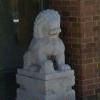Statue: (21, 2, 73, 88)
